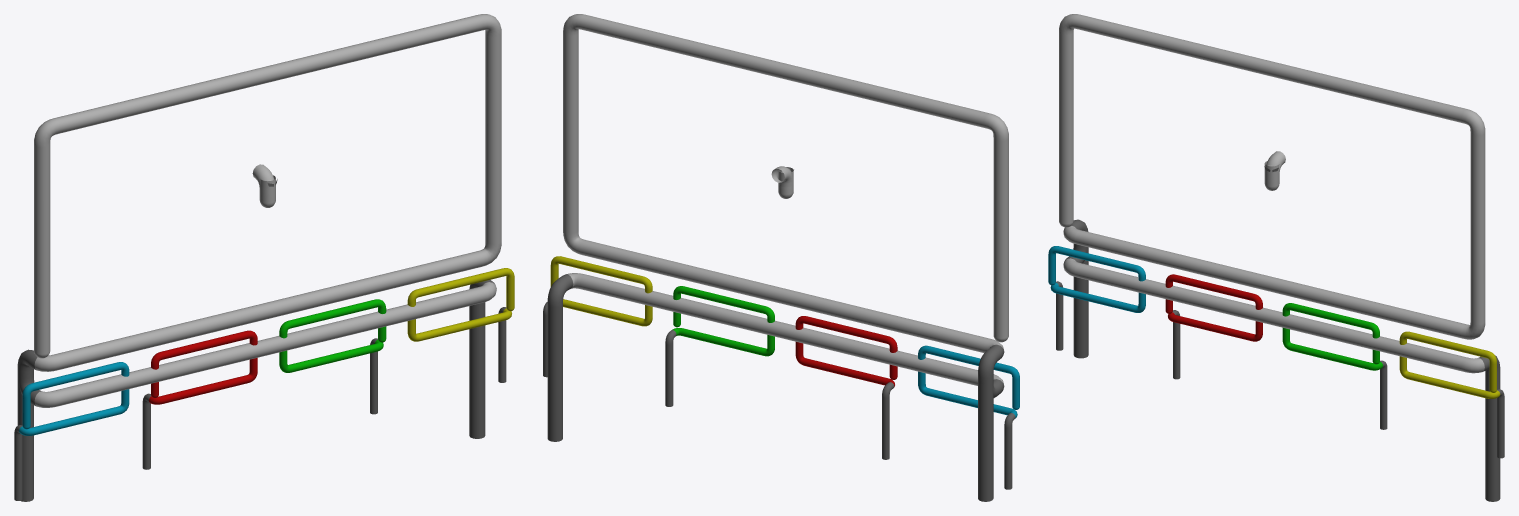
File: assets.fbx
3 renders of one model, left to right at view 1: azimuth 30°, elevation 25°; view 2: azimuth 150°, elevation 25°; view 3: azimuth 330°, elevation 25°, orthographic. The views are drawn at different scales.
Visible parts, largest first — view 1: Perimeter, Perimeter_v2_P1, Perimeter_v2_P4, Perimeter_v2_P2, Perimeter_v2_P3, Perimeter_v2; view 2: Perimeter, Perimeter_v2_P3, Perimeter_v2_P2, Perimeter_v2_P1, Perimeter_v2_P4, Perimeter_v2; view 3: Perimeter, Perimeter_v2_P4, Perimeter_v2_P1, Perimeter_v2_P3, Perimeter_v2_P2, Perimeter_v2.
Boxes of the visible parts, x1,y1,x2,y2 form: Perimeter: (17,14,501,438); Perimeter_v2_P1: (14,362,129,500); Perimeter_v2_P4: (407,268,514,382); Perimeter_v2_P2: (142,330,257,469); Perimeter_v2_P3: (279,299,386,414); Perimeter_v2: (17,370,33,501); Perimeter: (547,14,1008,441); Perimeter_v2_P3: (665,286,774,406); Perimeter_v2_P2: (795,316,897,459); Perimeter_v2_P1: (918,345,1019,489); Perimeter_v2_P4: (543,256,652,377); Perimeter_v2: (978,375,993,501); Perimeter: (1059,14,1500,501); Perimeter_v2_P4: (1399,331,1504,458); Perimeter_v2_P1: (1048,246,1145,350); Perimeter_v2_P3: (1282,303,1387,429); Perimeter_v2_P2: (1165,274,1262,379); Perimeter_v2: (1073,244,1088,358).
Bounding box in the file's own units: 3480 × 2950 × 301.
